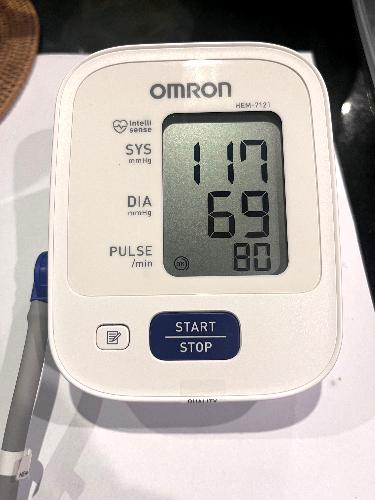bpm: (156, 105, 290, 280)
